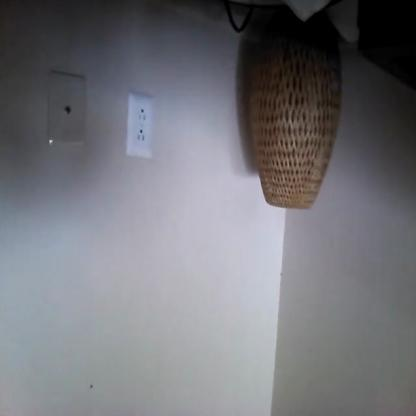OUTLET: (126, 94, 154, 158)
